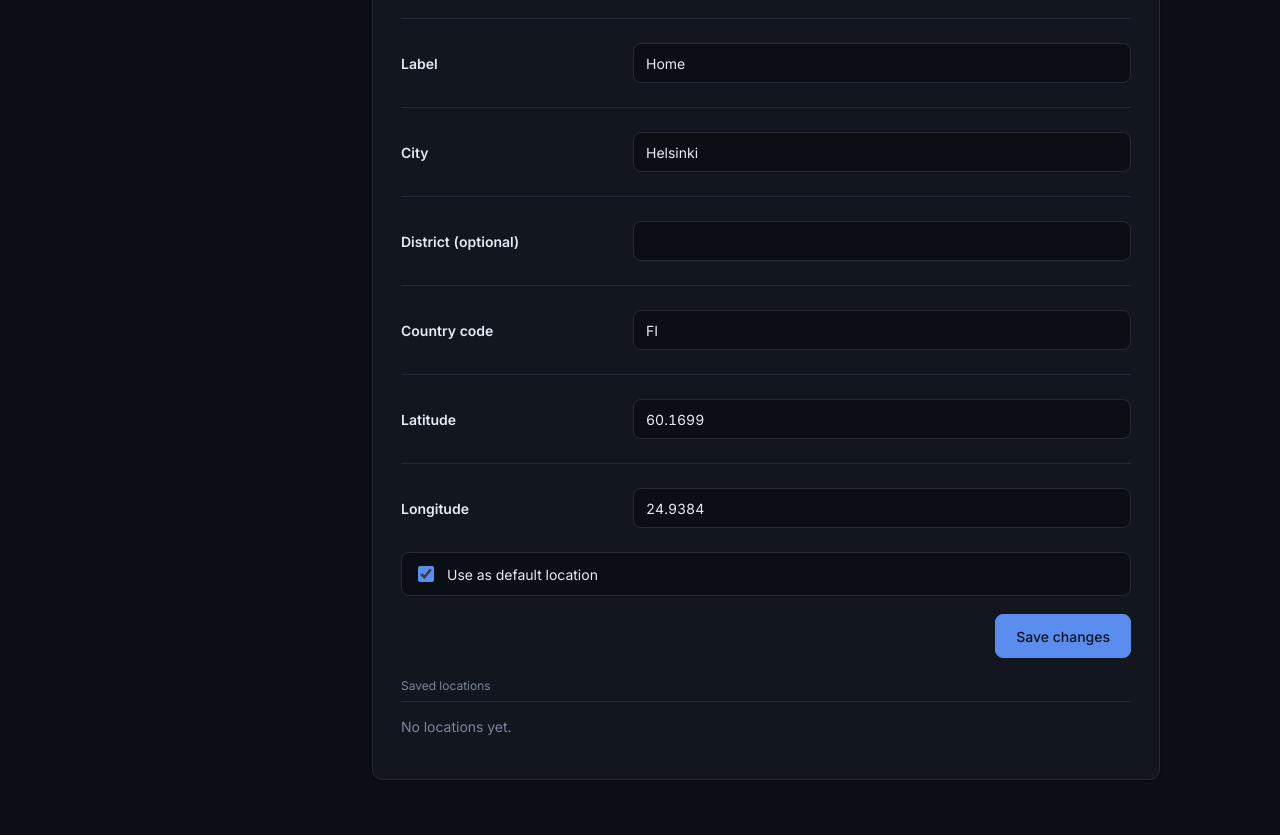
PersonalSettingsPage › does not expose backend details when saving personal context fails
(page scrolled)
Expected: the field labelled "City" is shown, 633,132 -> 1131,172
Click the button "Save changes". click: (1063, 636)
box: 995,614 -> 1131,658
(page scrolled)
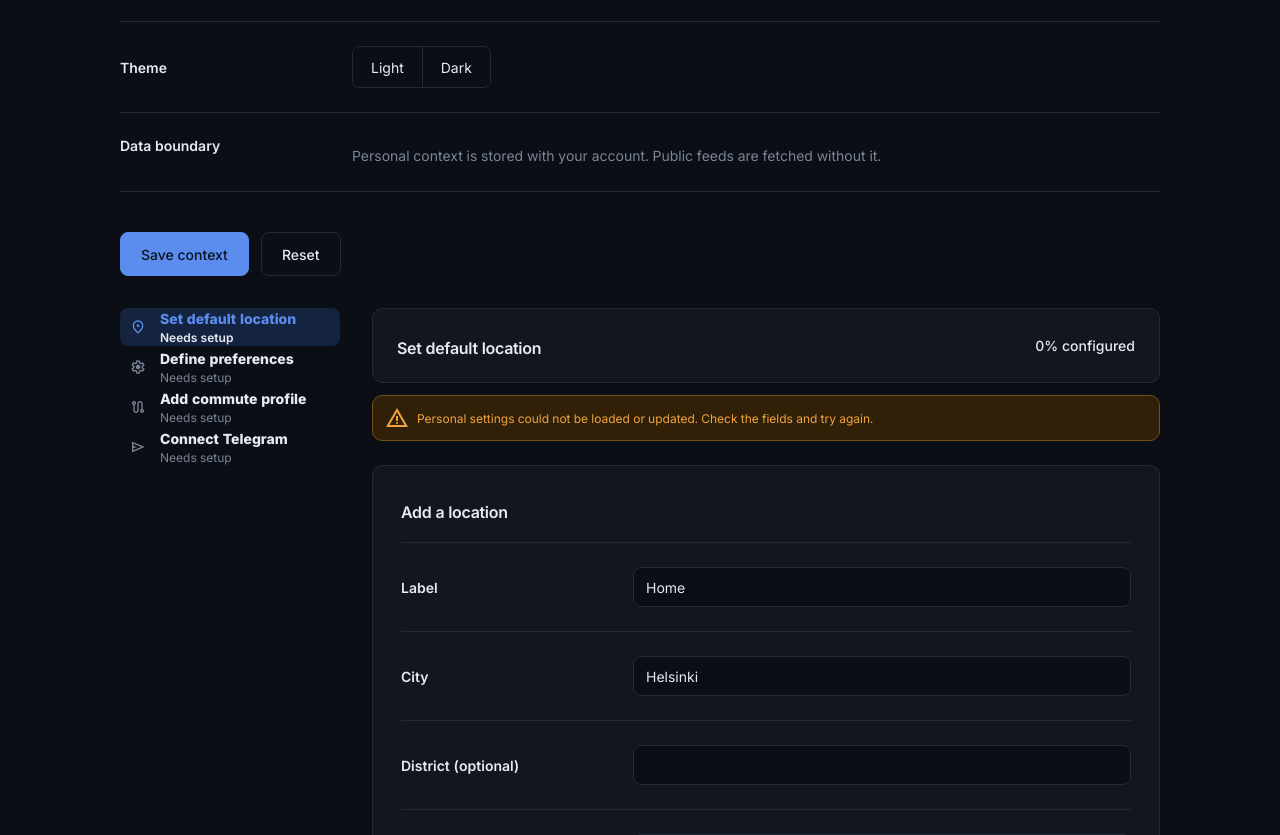
Expected: the message does not show "legacy-secret", 372,395 -> 1160,441
Expected: the message shows "Personal settings could not be loaded or updated. Check the fields and try again.", 417,411 -> 873,426
